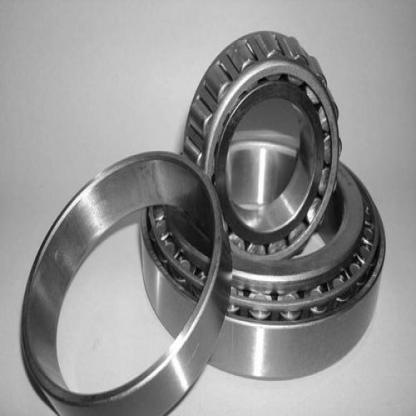FOD: (136, 136, 388, 384)
